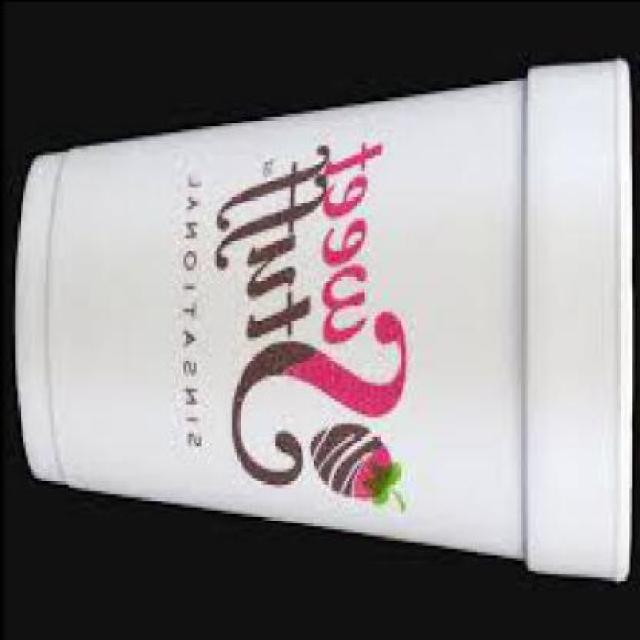PAPER: (18, 61, 634, 582)
